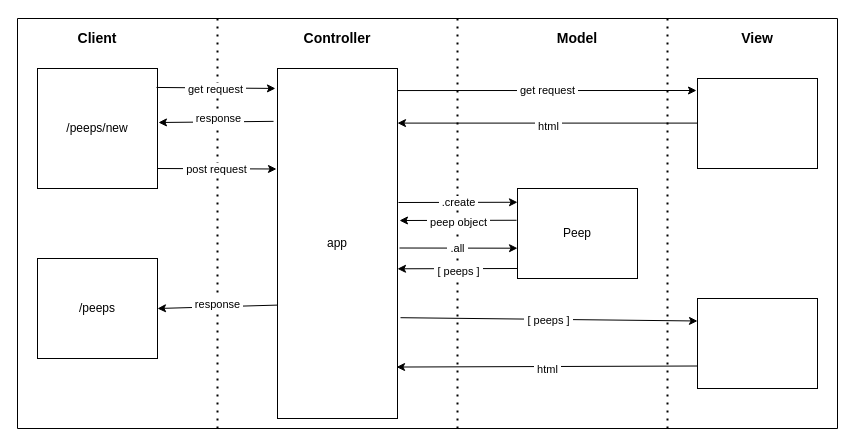
This 856x447 diagram has some shape labels left out. The shapes that lost their labels are listed below. From the top down, each one's box as (x1, y1, x2, y2) in pixels, then its label:
(696, 78, 818, 168): erb peeps/new
(696, 298, 818, 388): erb peeps/index
